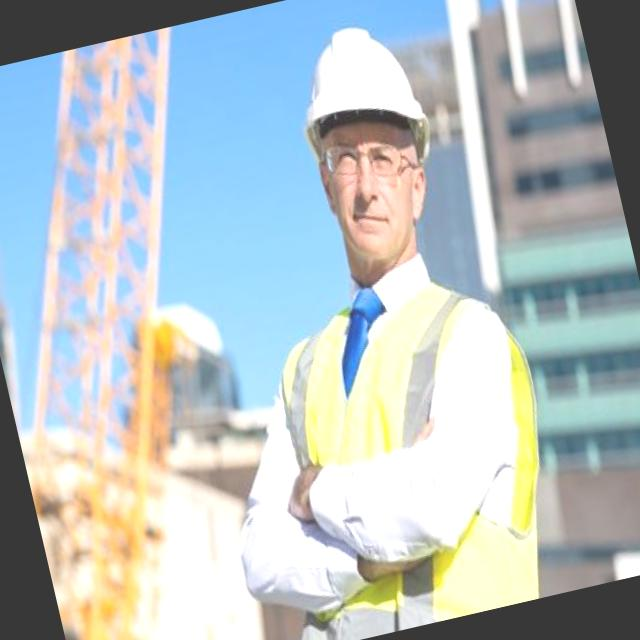helmet: (282, 8, 437, 160)
vest: (250, 261, 581, 640)
